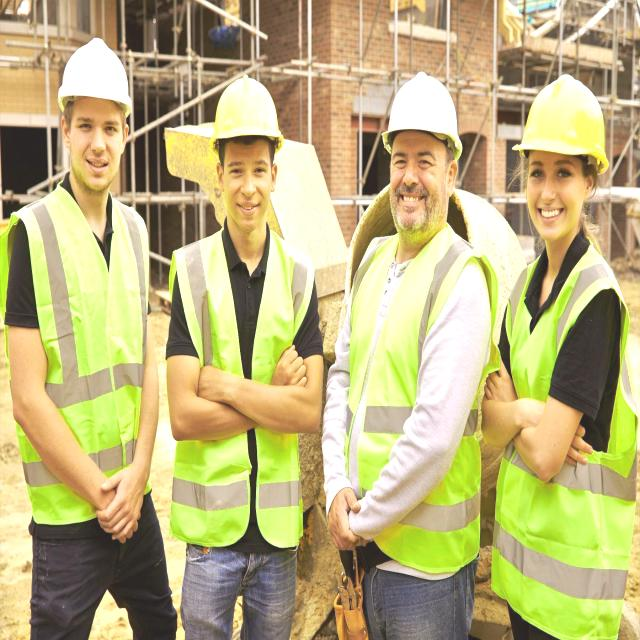face_nomask: (379, 126, 451, 245), (63, 102, 130, 192), (524, 150, 592, 238), (216, 153, 282, 227)
hand_noglove: (104, 463, 148, 552), (320, 487, 368, 560), (273, 330, 312, 419), (478, 350, 521, 425)
head_helmet: (516, 70, 614, 170), (378, 71, 464, 156), (210, 72, 285, 151), (57, 33, 131, 113)
person: (5, 39, 164, 639), (165, 100, 323, 639), (340, 133, 493, 640), (493, 131, 632, 640)
vest: (492, 238, 638, 640), (1, 186, 158, 517), (345, 225, 486, 578), (168, 225, 310, 552)
